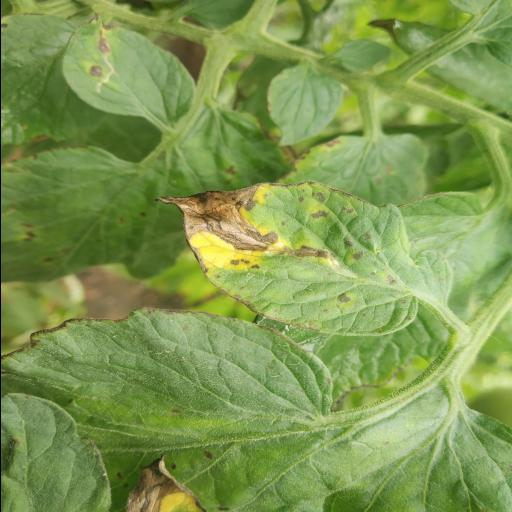Early Blight: (150, 178, 458, 338)
